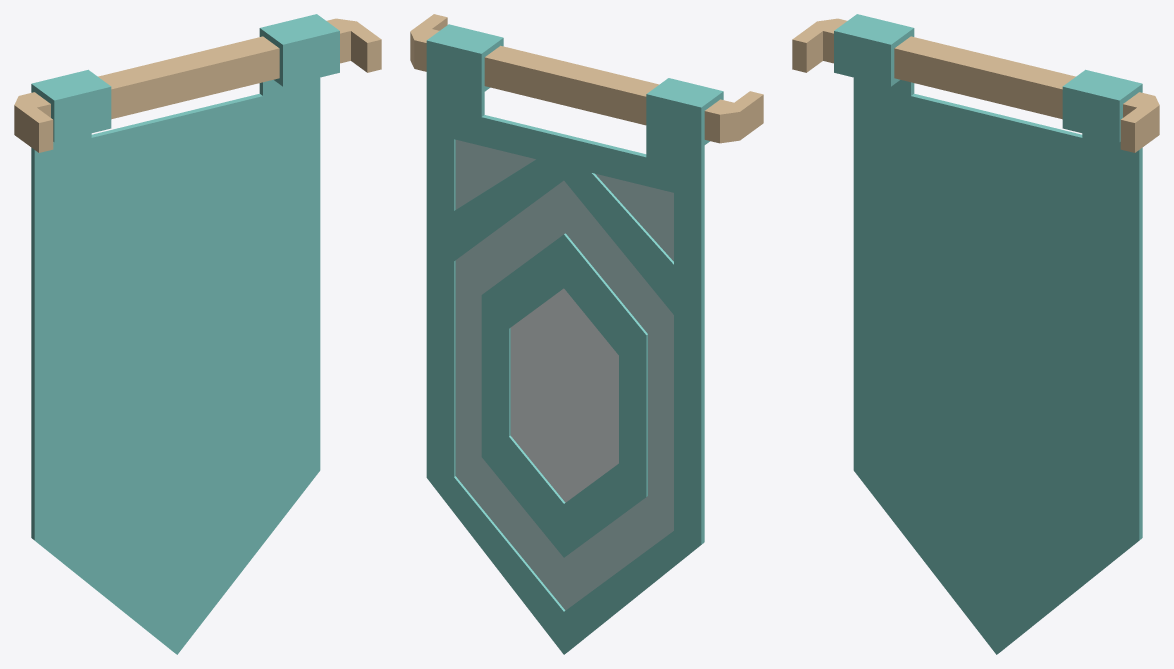
File: Prop_Flag_1.glb
The picture shows the model from 3 angles, left to right: view 1: azimuth 30°, elevation 25°; view 2: azimuth 150°, elevation 25°; view 3: azimuth 330°, elevation 25°; orthographic projection. The views are drawn at different scales.
Visible parts, largest first — view 1: Prop_Flag_1; view 2: Prop_Flag_1; view 3: Prop_Flag_1.
Boxes of the visible parts, bbox=[...] form: Prop_Flag_1: bbox=[14, 14, 381, 654]; Prop_Flag_1: bbox=[410, 14, 763, 654]; Prop_Flag_1: bbox=[792, 14, 1159, 654].
Bounding box in the file's own units: 0.54 × 0.909 × 0.099.
